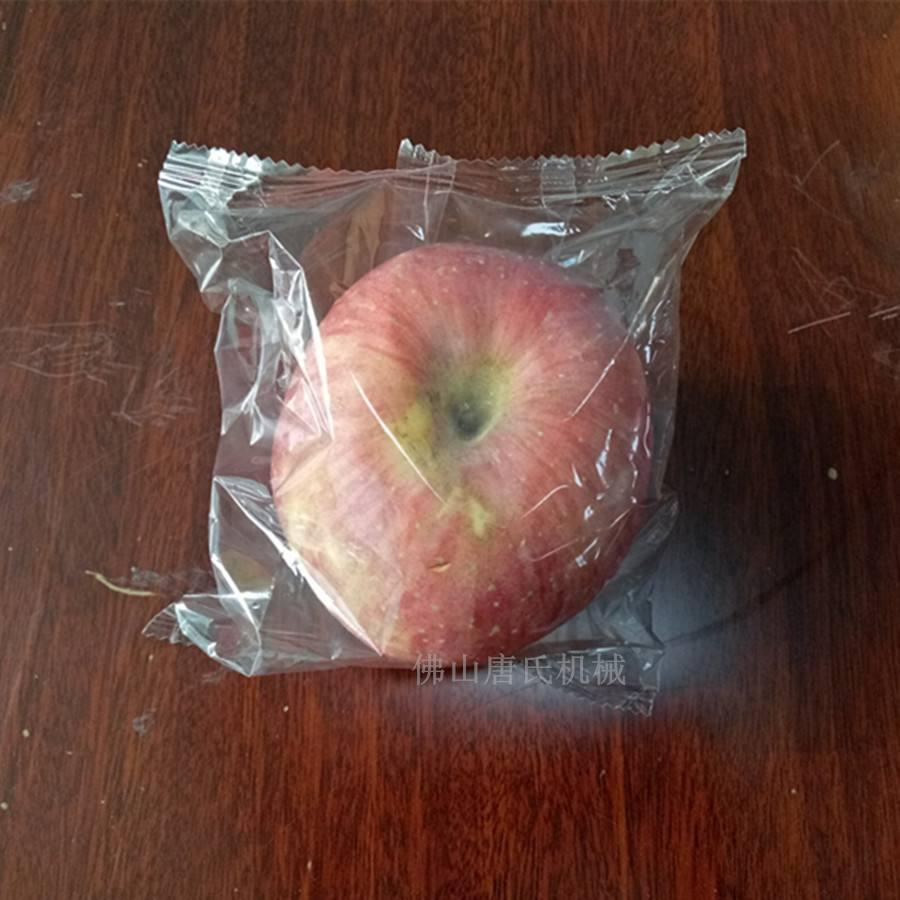apple: (266, 243, 644, 664)
